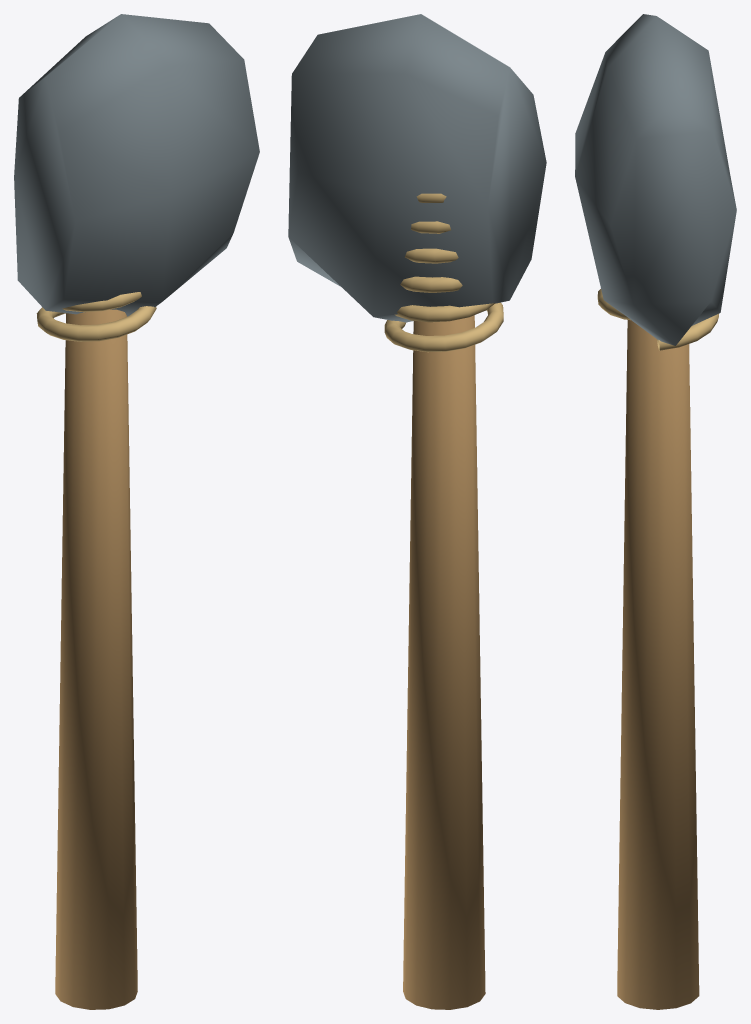
The model's file is axe_heavy.glb.
The picture shows the model from 3 angles, left to right: view 1: azimuth 30°, elevation 25°; view 2: azimuth 150°, elevation 25°; view 3: azimuth 270°, elevation 25°; orthographic projection.
Visible parts, largest first — view 1: axe_head, axe_haft, axe_lashing; view 2: axe_head, axe_haft, axe_lashing; view 3: axe_haft, axe_head, axe_lashing.
Boxes of the visible parts, left/top/right/bottom form: axe_head: left=14, top=14, right=259, bottom=316; axe_haft: left=55, top=309, right=137, bottom=1009; axe_lashing: left=36, top=292, right=156, bottom=341; axe_head: left=288, top=14, right=546, bottom=322; axe_haft: left=403, top=315, right=485, bottom=1009; axe_lashing: left=384, top=193, right=503, bottom=352; axe_haft: left=617, top=320, right=699, bottom=1009; axe_head: left=575, top=14, right=736, bottom=345; axe_lashing: left=597, top=289, right=718, bottom=350.
Bounding box in the file's own units: 0.2401 × 1.08 × 0.1609.
